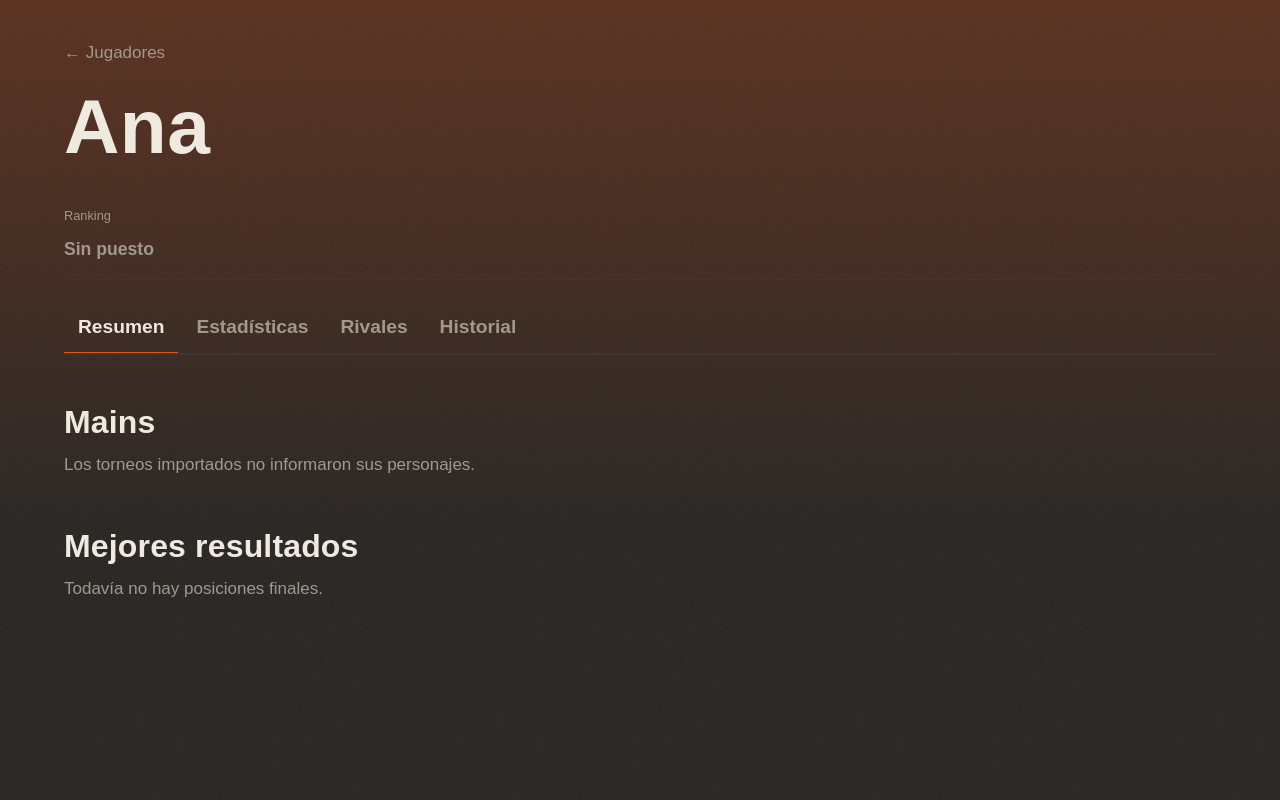
Test: shows known tags and historical competition records
Click the tab "Historial" at coordinates (478, 328), box [426,302,530,355]
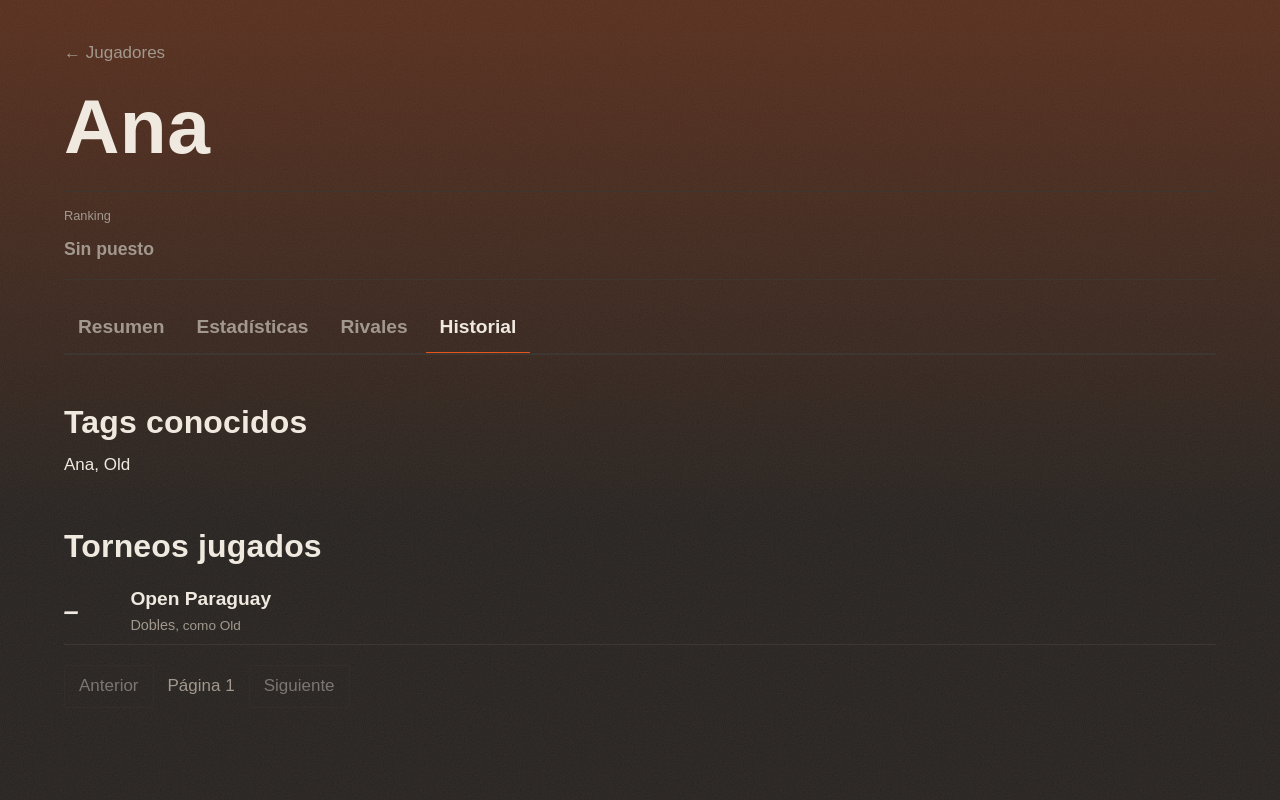
Result: the text "Ana, Old" is shown at [64,455,130,474]
Result: the text "Dobles , como Old" is shown at [130,617,241,633]
Result: the link "Open Paraguay" is shown at [130,588,271,609]
